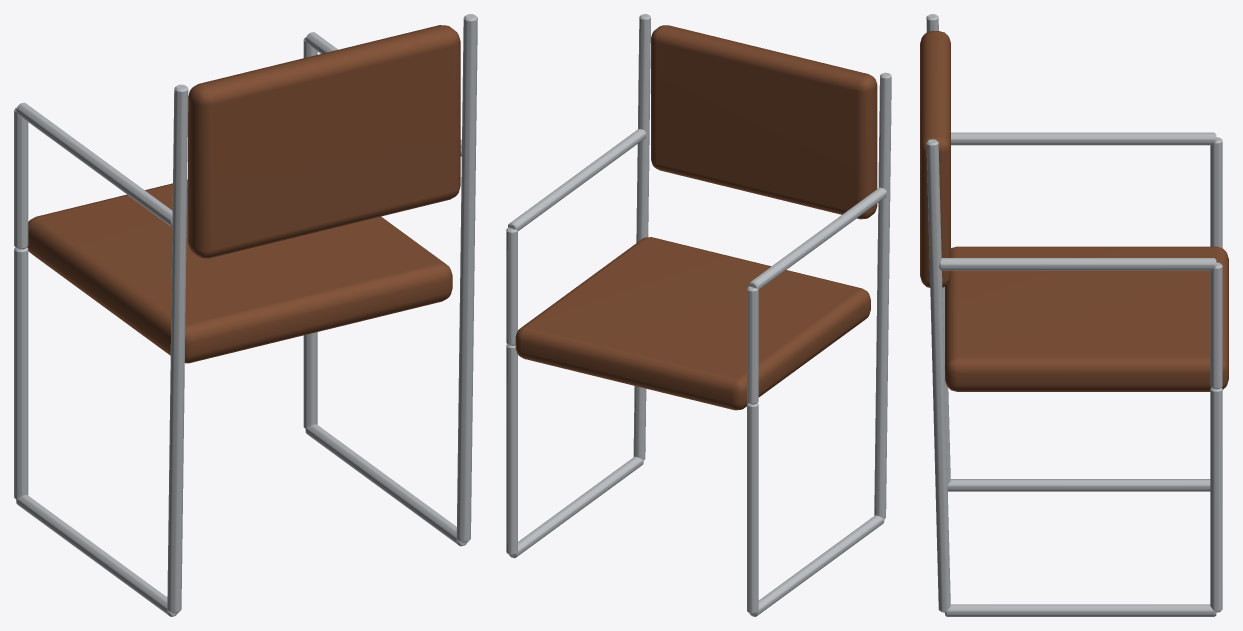
The model's file is prop_chair_visitor.glb.
3 views of the same model, side by side, from view 1: azimuth 30°, elevation 25°; view 2: azimuth 150°, elevation 25°; view 3: azimuth 270°, elevation 25° (orthographic). The views are drawn at different scales.
Visible parts, largest first — view 1: Chair; view 2: Chair; view 3: Chair.
Part boxes in pixels (x1,y1,x2,y2): Chair: (14, 14, 477, 616); Chair: (506, 14, 891, 616); Chair: (920, 14, 1228, 616).
Size of what is drawn, in the model's own units: 0.4997 by 0.849 by 0.5.
